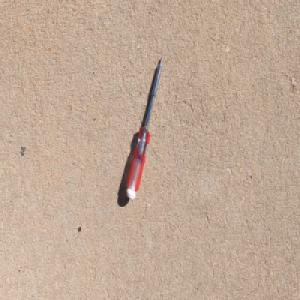Screwdriver: (126, 55, 163, 200)
